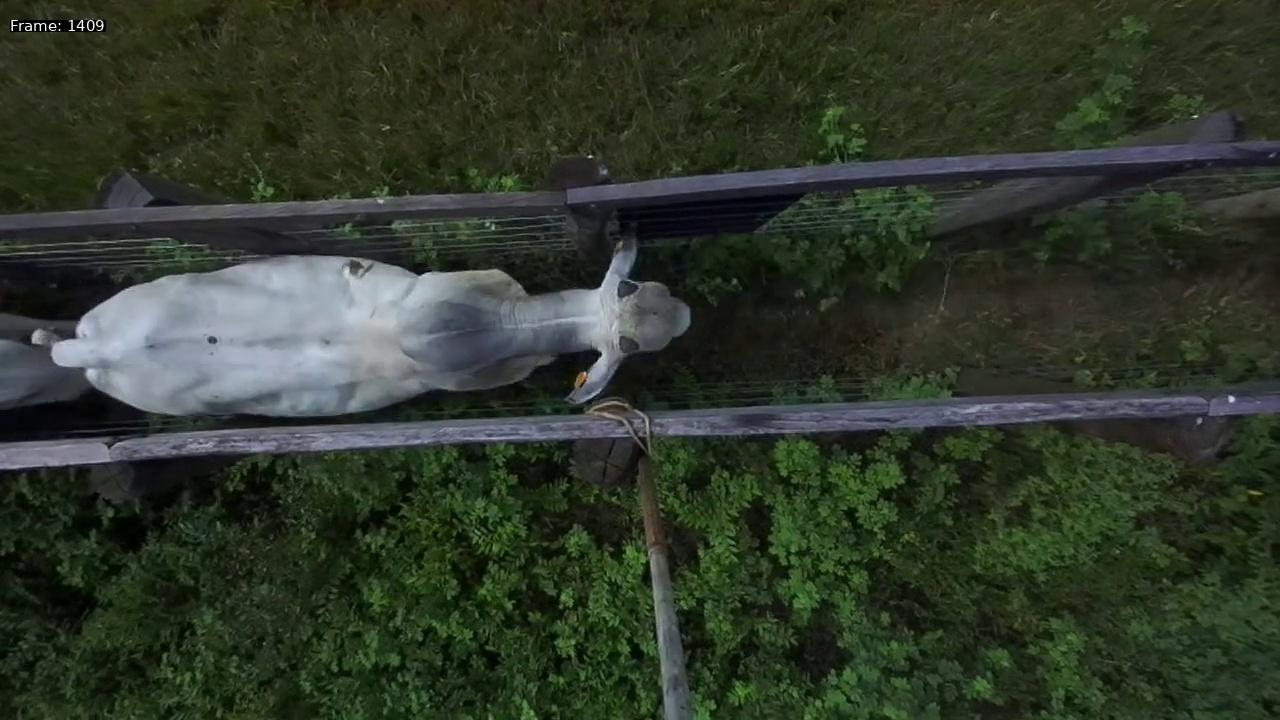cattle: (35, 214, 698, 432)
